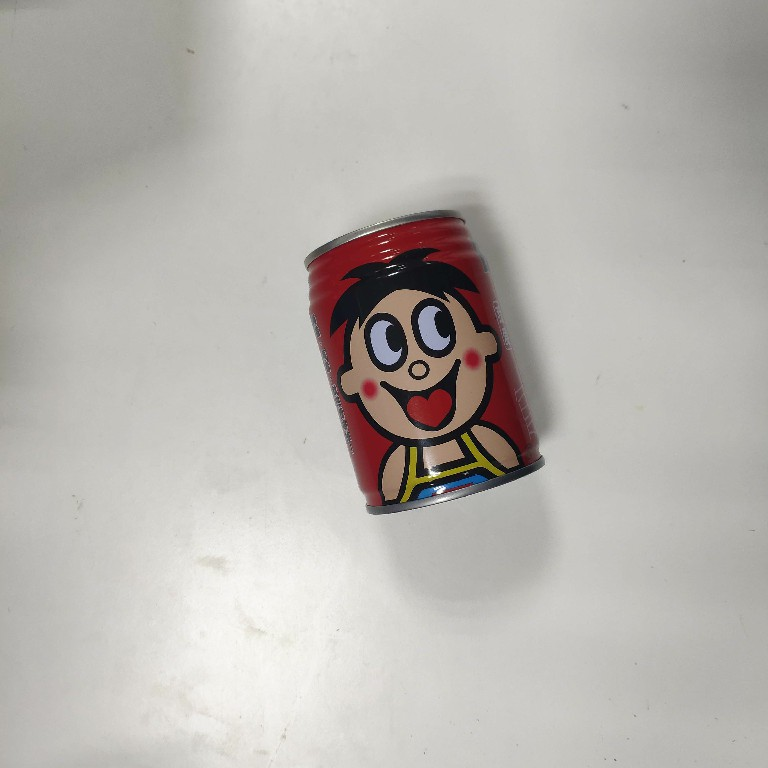can: (303, 205, 549, 517)
